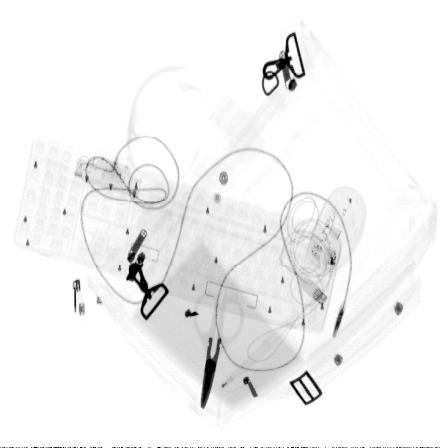Scissors: (195, 290, 245, 408)
